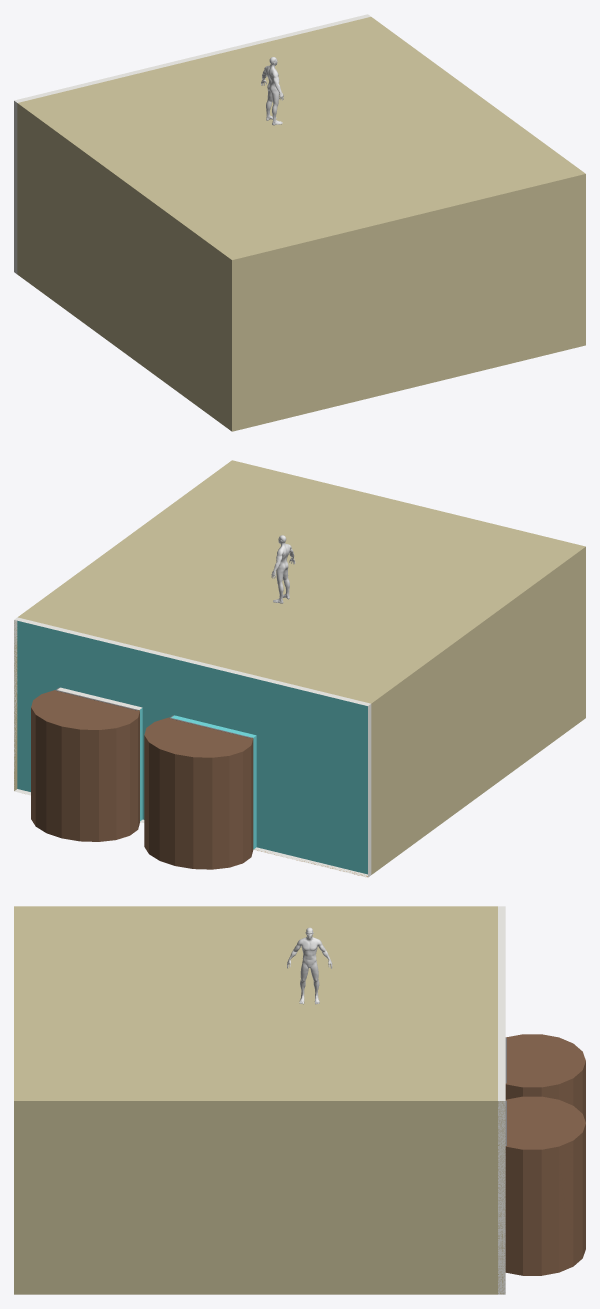
Rendered from D1_STADIUM_INSIDE.fbx.
3 views of the same model, one above another, from view 1: azimuth 30°, elevation 25°; view 2: azimuth 150°, elevation 25°; view 3: azimuth 270°, elevation 25° (orthographic). The views are drawn at different scales.
Parts seen in each view (by area): view 1: Cube.026, FinalBaseMesh; view 2: Cube.026, Cylinder.004, Cylinder.008, FinalBaseMesh; view 3: Cube.026, Cylinder.008, Cylinder.004, FinalBaseMesh.
Boxes of the visible parts, bbox=[...] form: Cube.026: bbox=[14, 14, 585, 431]; FinalBaseMesh: bbox=[261, 57, 283, 125]; Cube.026: bbox=[14, 460, 585, 877]; Cylinder.004: bbox=[144, 717, 253, 869]; Cylinder.008: bbox=[31, 690, 139, 841]; FinalBaseMesh: bbox=[271, 535, 295, 603]; Cube.026: bbox=[14, 906, 505, 1294]; Cylinder.008: bbox=[505, 1096, 585, 1275]; Cylinder.004: bbox=[505, 1034, 585, 1122]; FinalBaseMesh: bbox=[287, 927, 332, 1004].
Size of the model in its own units: 1083 by 693 by 1345.
13 materials, 2 textured.
